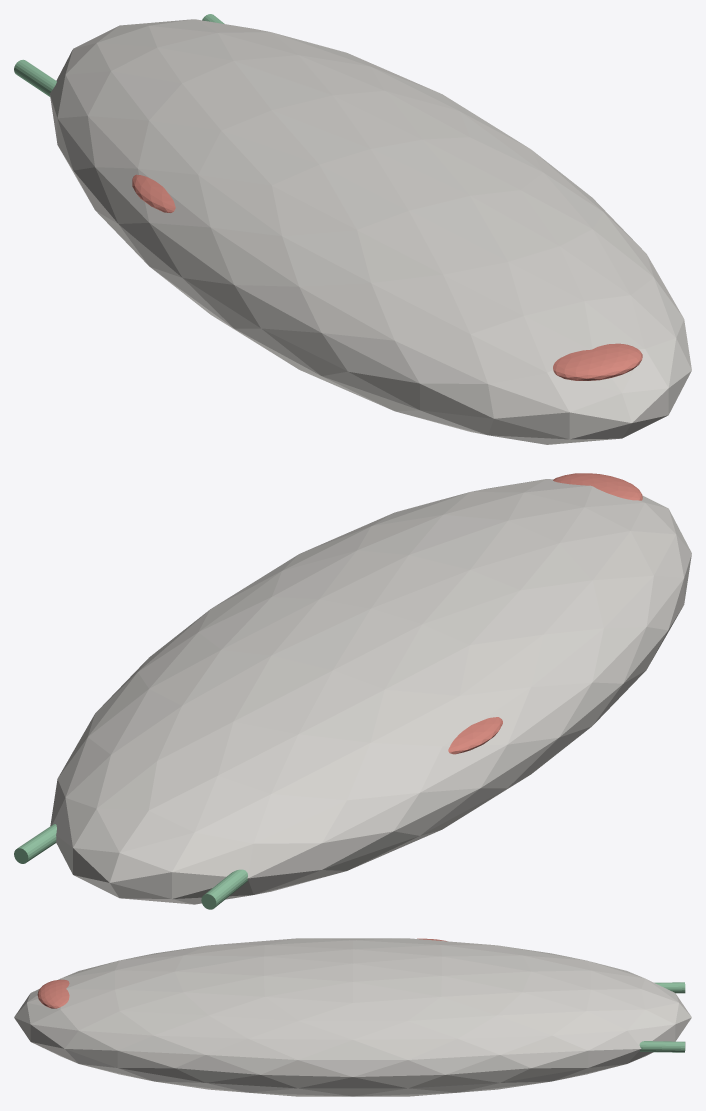
The model's file is lymphatic_immune_educational.glb.
3 renders of one model, top to bottom at view 1: azimuth 30°, elevation 25°; view 2: azimuth 150°, elevation 25°; view 3: azimuth 270°, elevation 25°, orthographic. The views are drawn at different scales.
Visible parts, largest first — view 1: Siluet Tubuh, Peringatan Delirium, Peringatan Penurunan Aktivitas, Pembuluh Limfa Tungkai Kanan_2; view 2: Siluet Tubuh, Peringatan Delirium, Peringatan Penurunan Aktivitas, Pembuluh Limfa Tungkai Kanan_2, Pembuluh Limfa Tungkai Kiri_2; view 3: Siluet Tubuh, Peringatan Delirium, Pembuluh Limfa Tungkai Kiri_2.
Boxes of the visible parts, <box> form: Siluet Tubuh: <box>49,19,691,444</box>; Peringatan Delirium: <box>553,343,642,380</box>; Peringatan Penurunan Aktivitas: <box>132,174,175,212</box>; Pembuluh Limfa Tungkai Kanan_2: <box>14,59,56,96</box>; Siluet Tubuh: <box>50,479,691,904</box>; Peringatan Delirium: <box>553,473,642,500</box>; Peringatan Penurunan Aktivitas: <box>448,717,502,754</box>; Pembuluh Limfa Tungkai Kanan_2: <box>201,869,247,909</box>; Pembuluh Limfa Tungkai Kiri_2: <box>14,824,56,863</box>; Siluet Tubuh: <box>14,938,691,1096</box>; Peringatan Delirium: <box>37,979,69,1008</box>; Pembuluh Limfa Tungkai Kiri_2: <box>639,1041,685,1052</box>.
Bounding box in the file's own units: 2.04 × 0.86 × 4.9.
